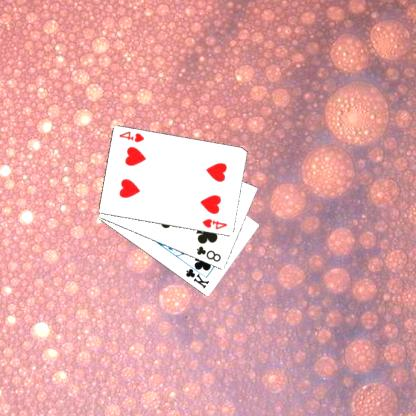4H: (202, 216, 231, 231), (118, 129, 147, 144)
8C: (196, 244, 224, 264)
KC: (185, 261, 212, 290)
